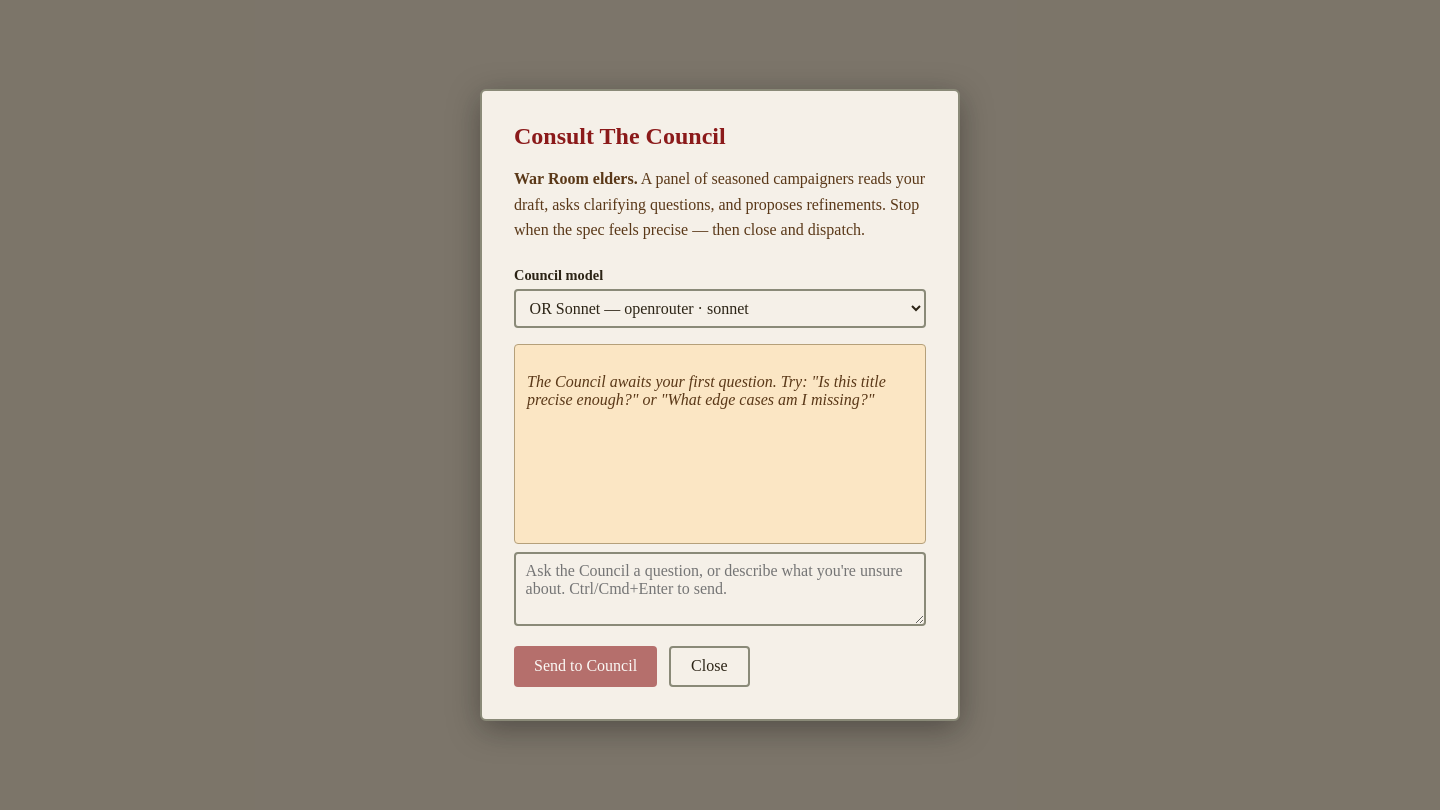
Test: CouncilModal › shows server errors and does not append a turn on failure
The image size is (1440, 810).
Check: the dropdown with test id "advisor-model-select" shows "OR Sonnet — openrouter · sonnet", box [514,289,926,328]
In the text box with test id "advisor-input": (720, 589) [514,552,926,626], type "hello"
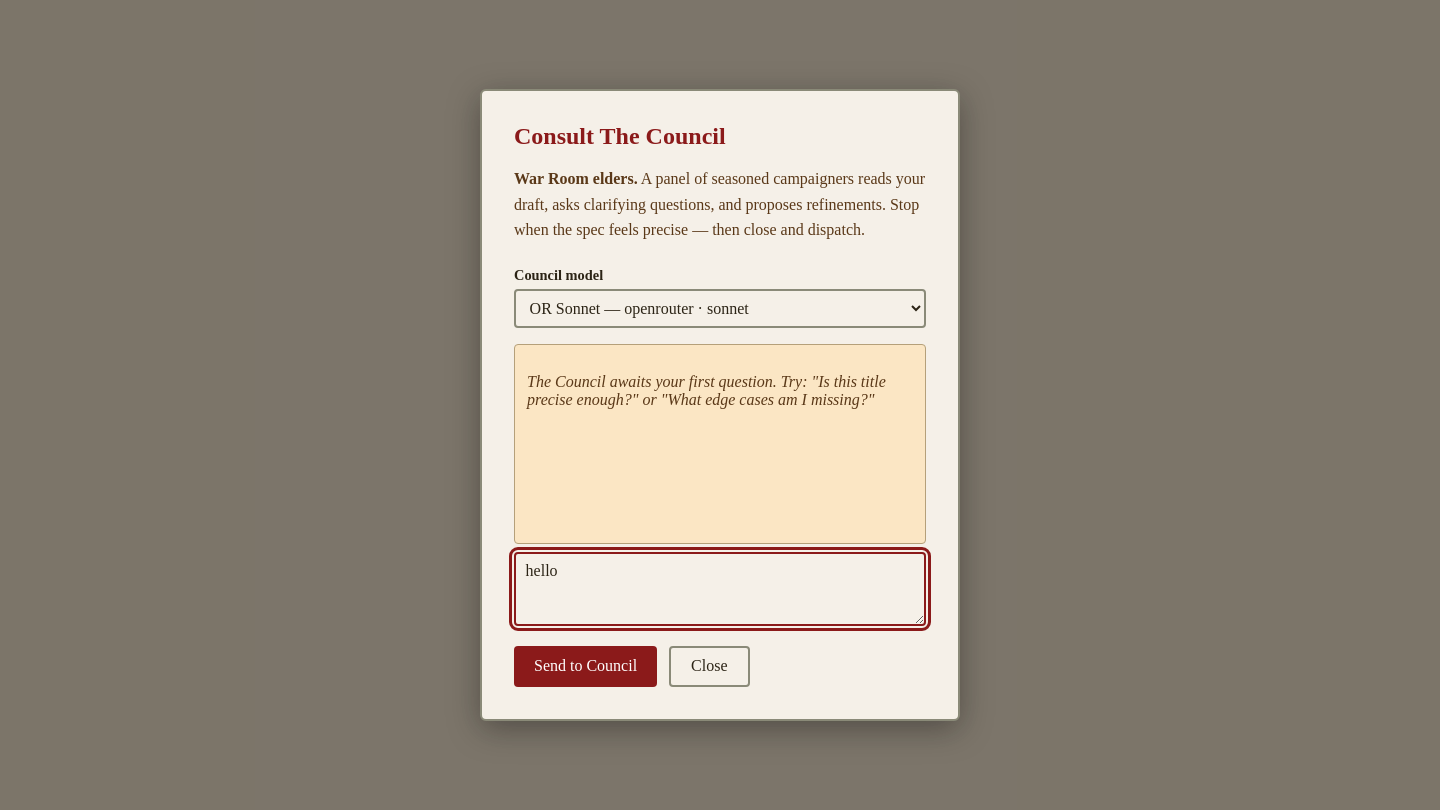
Click the button "Send to Council": (586, 666) [514,646,657,687]
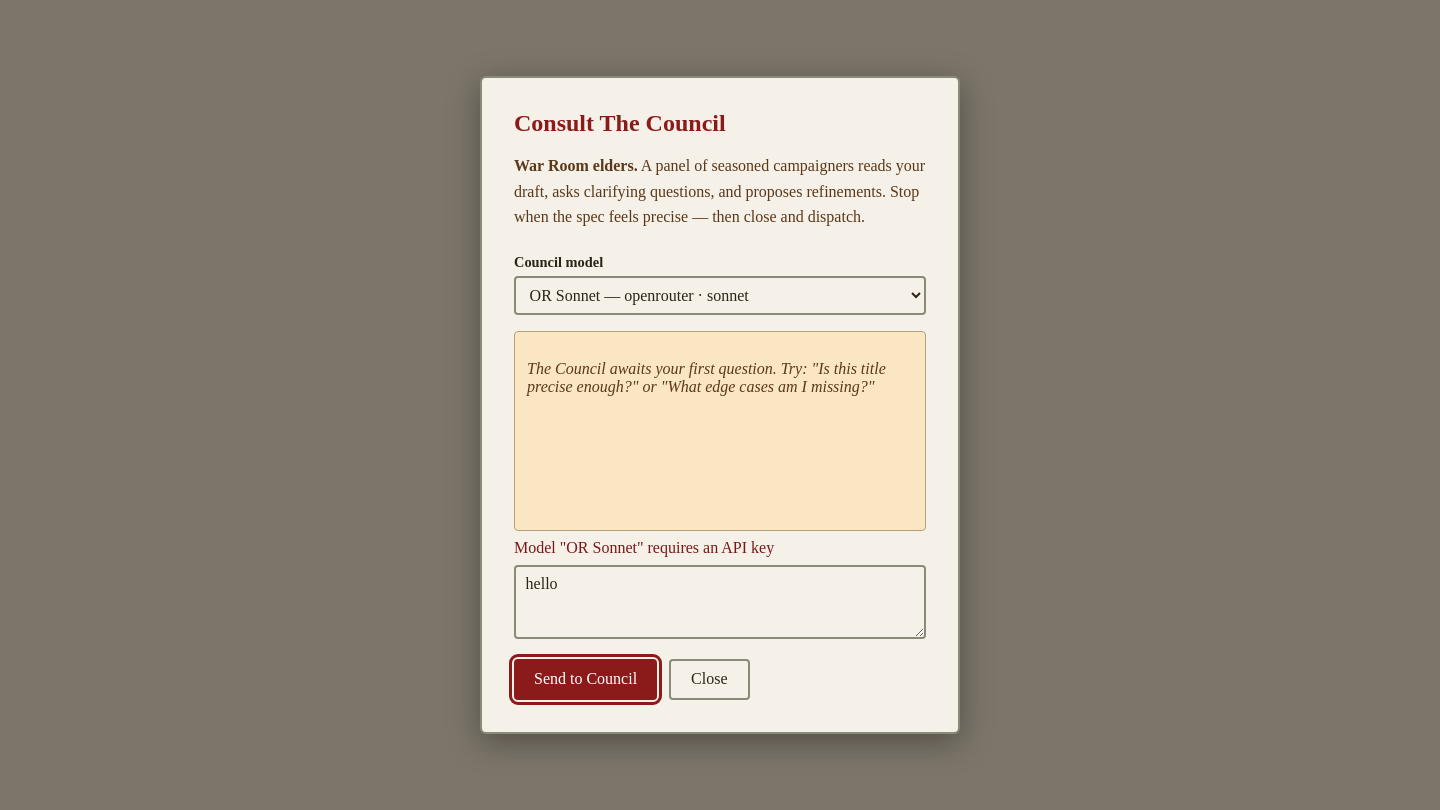
Check: the message shows "requires an API key", box [514,539,774,556]
